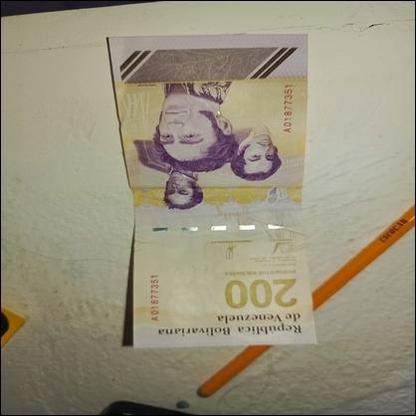two_hundred-front-vef: (106, 33, 317, 348)
